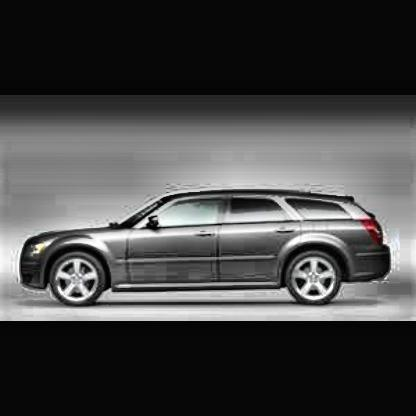Dodge Magnum Wagon 2008: (19, 188, 394, 308)
